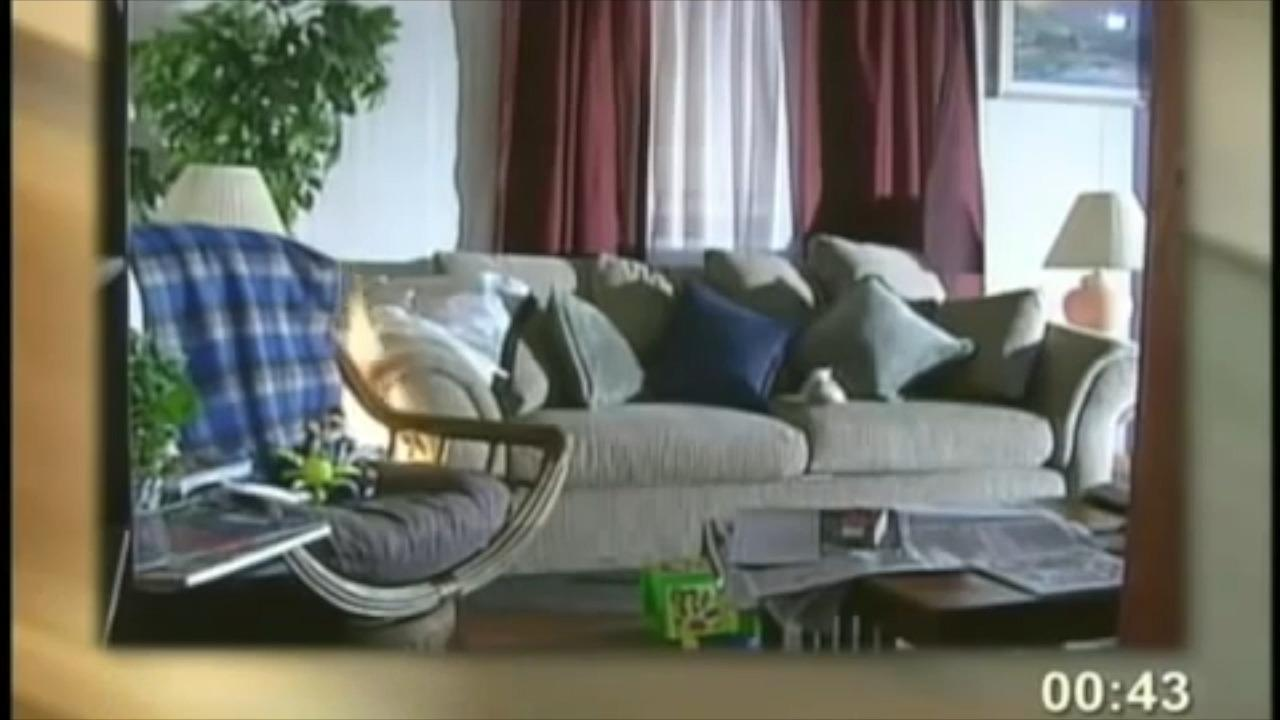fire: (336, 288, 432, 470)
